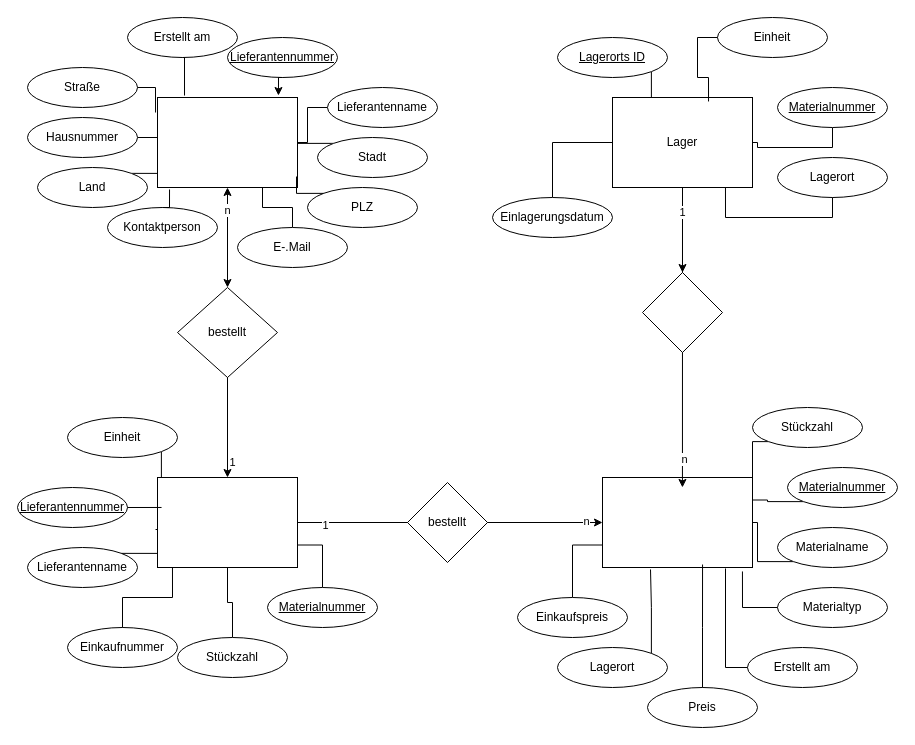
The diagram is 915 pixels wide and 745 high, and some of its shapes have lost their labels. Here are the shapes that lost their labels. From the top down, the box of each, then its label:
(156, 96, 298, 188): Lieferant
(642, 272, 722, 352): lagert
(156, 476, 298, 568): Einkauf
(602, 476, 752, 568): Material
